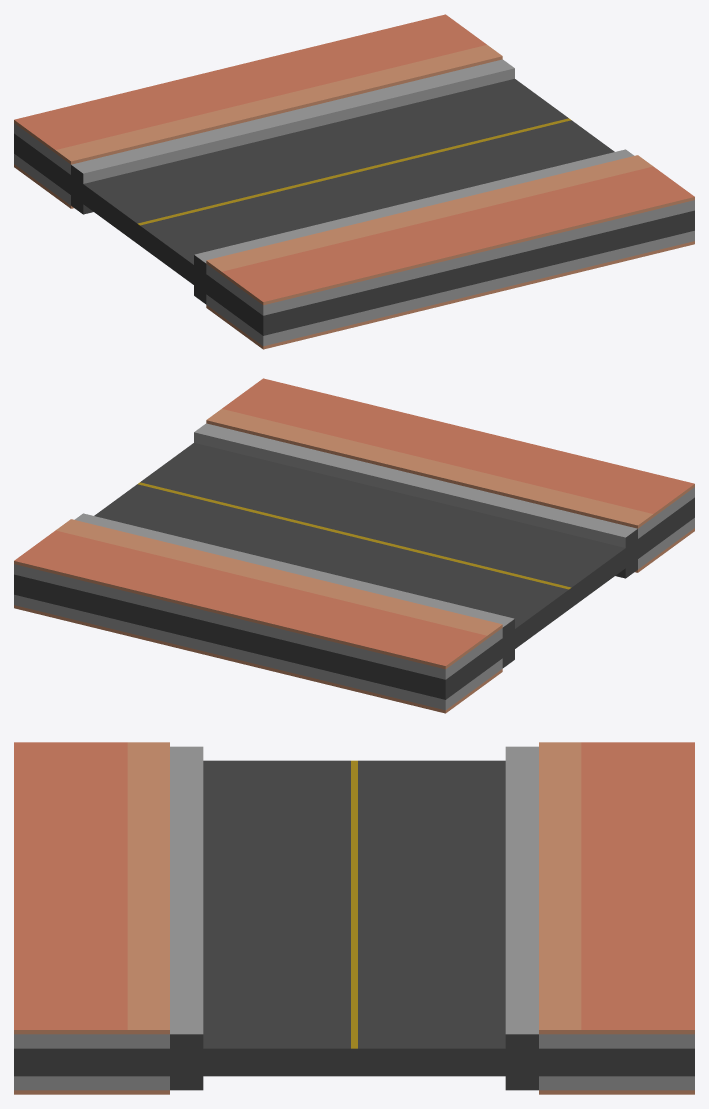
File: Road 8.fbx
3 views of the same model, one above another, from view 1: azimuth 30°, elevation 25°; view 2: azimuth 150°, elevation 25°; view 3: azimuth 270°, elevation 25° (orthographic). The views are drawn at different scales.
Visible parts, largest first — view 1: Road 8; view 2: Road 8; view 3: Road 8.
Boxes of the visible parts, bbox=[...] form: Road 8: bbox=[14, 14, 694, 349]; Road 8: bbox=[14, 378, 694, 713]; Road 8: bbox=[14, 742, 694, 1094].
Size of the model in its own units: 12.36 by 12.36 by 1.3.
